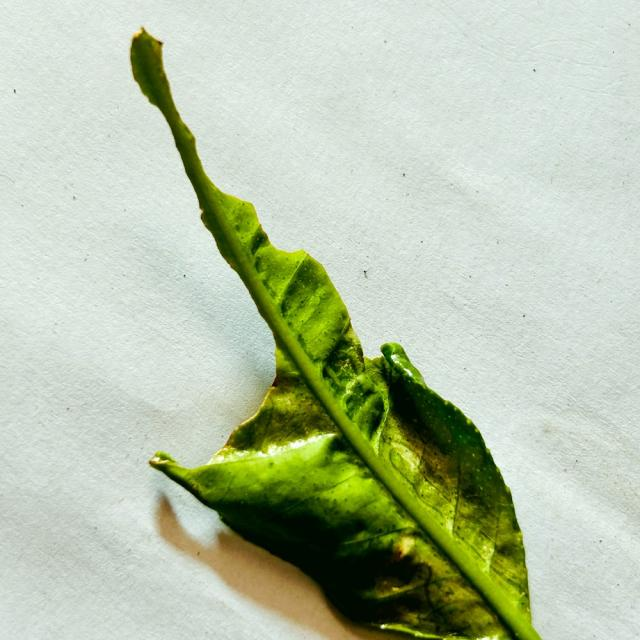Deficiency Leaf: (153, 29, 459, 403), (122, 57, 276, 459)
Lemon: (131, 30, 539, 639)
